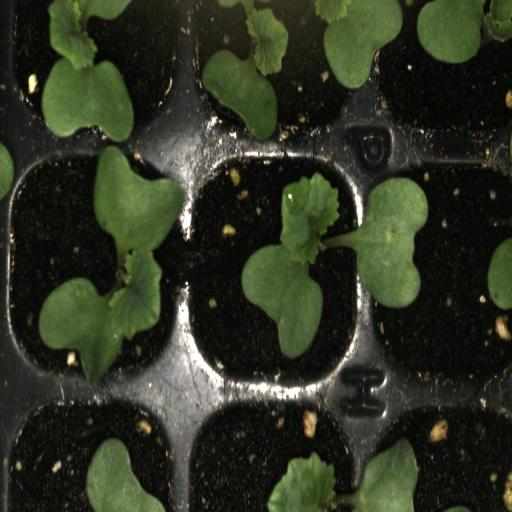Folha: (267, 439, 420, 512), (310, 0, 403, 91), (84, 438, 166, 512), (487, 238, 512, 310)
Germinacao: (184, 151, 373, 393), (7, 153, 184, 389), (6, 0, 186, 152), (188, 0, 377, 143)
